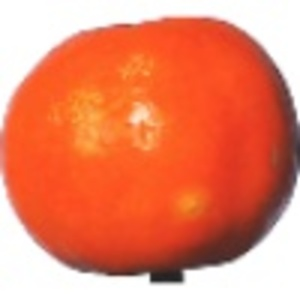tangerina: (2, 14, 300, 282)
